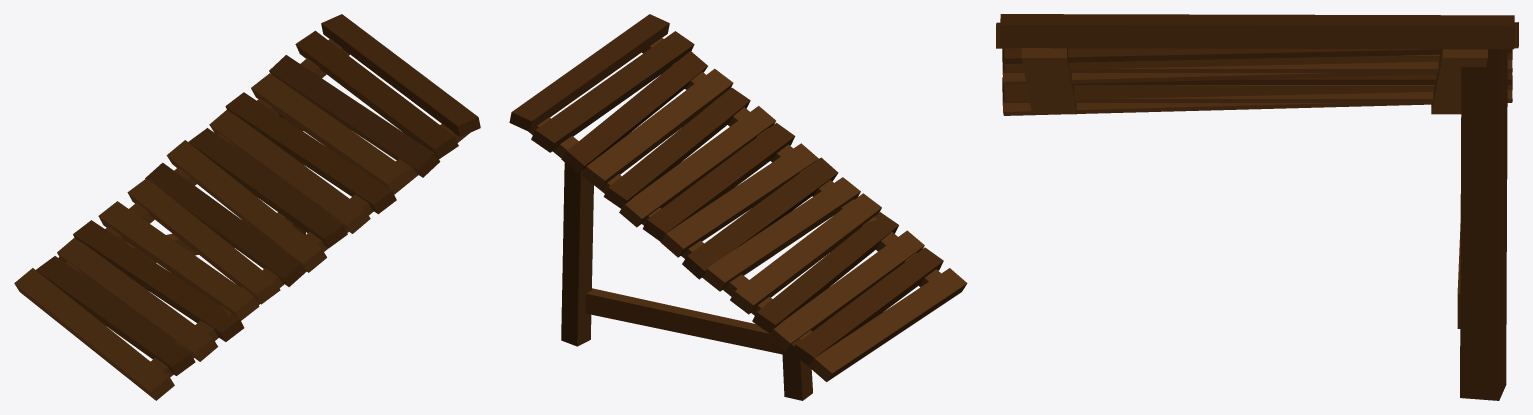
Rendered from obj_ScaffoldingRamp_2.fbx.
The picture shows the model from 3 angles, left to right: view 1: azimuth 30°, elevation 25°; view 2: azimuth 150°, elevation 25°; view 3: azimuth 270°, elevation 25°; orthographic projection. The views are drawn at different scales.
Parts seen in each view (by area): view 1: geo_ScaffoldingRamp_2; view 2: geo_ScaffoldingRamp_2; view 3: geo_ScaffoldingRamp_2.
Boxes of the visible parts, x1,y1,x2,y2 form: geo_ScaffoldingRamp_2: (14, 14, 480, 400); geo_ScaffoldingRamp_2: (509, 14, 967, 400); geo_ScaffoldingRamp_2: (996, 14, 1518, 400).
Size of the model in its own units: 85.76 by 55.99 by 63.39.
